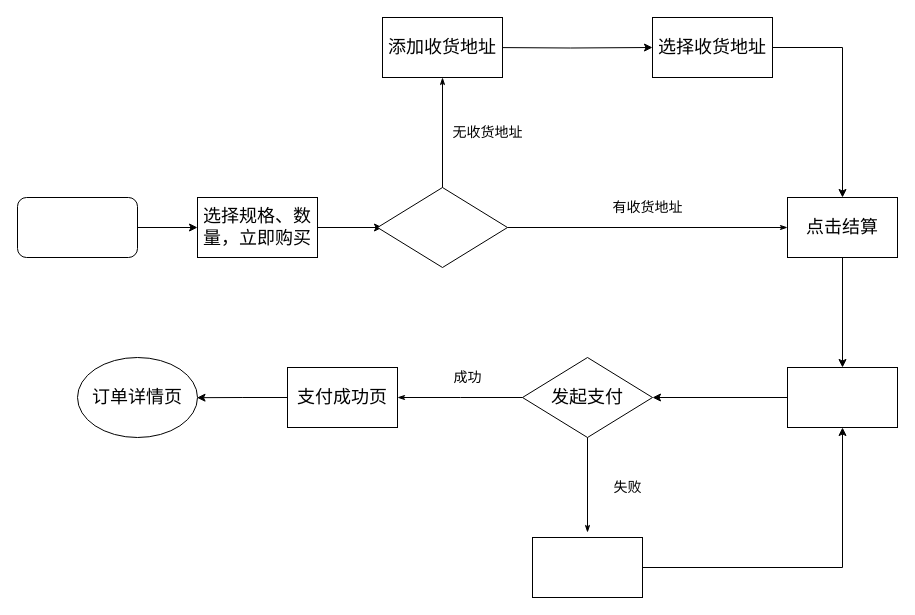
This 915x615 diagram has some shape labels left out. The shapes that lost their labels are listed below. From the top down, each one's centre as x and y in pixels, then its label:
the point at 77,227: 商详页
the point at 442,227: 结算页
the point at 842,397: 选择支付方式
the point at 587,567: 提示支付未完成
